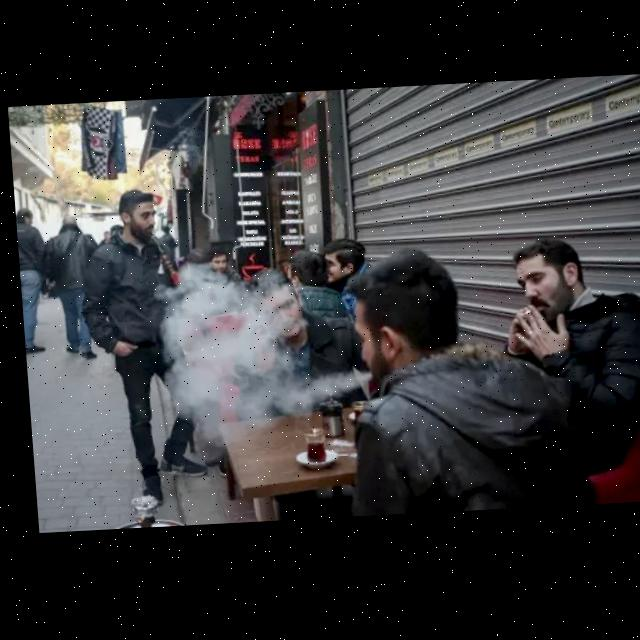cigarette: (518, 315, 525, 322)
